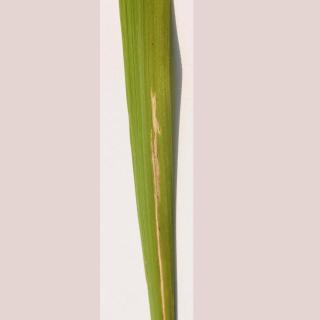Hawar-Daun: (136, 72, 183, 307)
